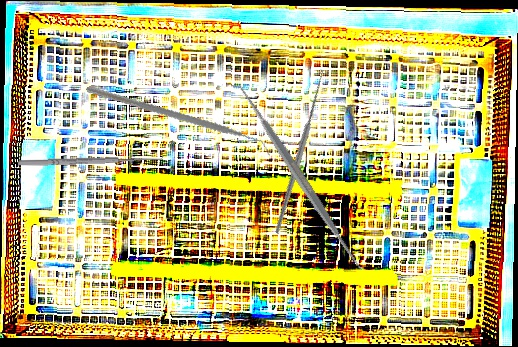Chopper: (85, 46, 271, 198)
Hook Surgical: (210, 63, 384, 235), (17, 148, 164, 169)
Spatula Surgical: (226, 75, 371, 278)
